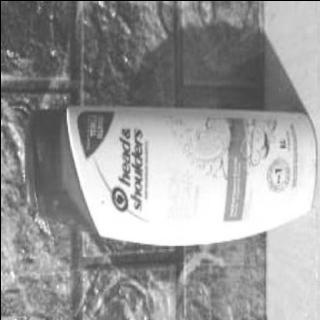objects: (24, 104, 320, 244)
